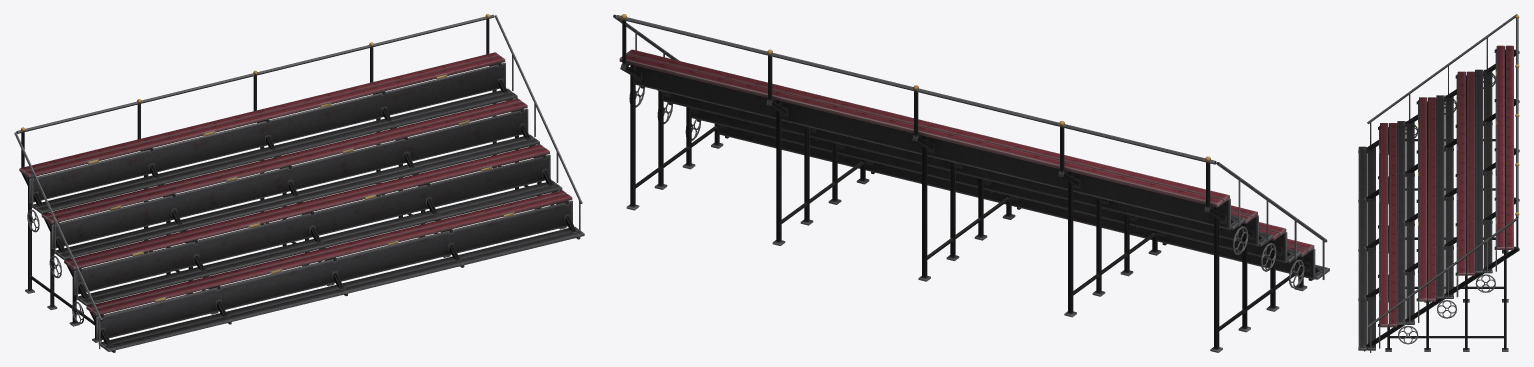
The model's file is Bleachers.fbx.
The picture shows the model from 3 angles, left to right: view 1: azimuth 30°, elevation 25°; view 2: azimuth 150°, elevation 25°; view 3: azimuth 270°, elevation 25°; orthographic projection. The views are drawn at different scales.
Visible parts, largest first — view 1: Bleachers; view 2: Bleachers; view 3: Bleachers.
Boxes of the visible parts, <box> form: Bleachers: <box>14,14,584,352</box>; Bleachers: <box>613,14,1329,352</box>; Bleachers: <box>1358,14,1519,352</box>.
Size of the model in its own units: 1620 by 512 by 541.
